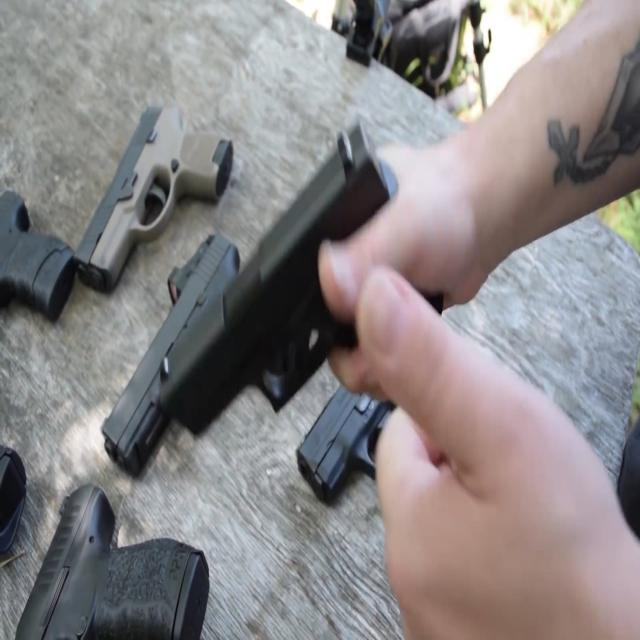handgun: (164, 140, 451, 459), (102, 243, 302, 473), (77, 85, 246, 295), (294, 324, 478, 499)
